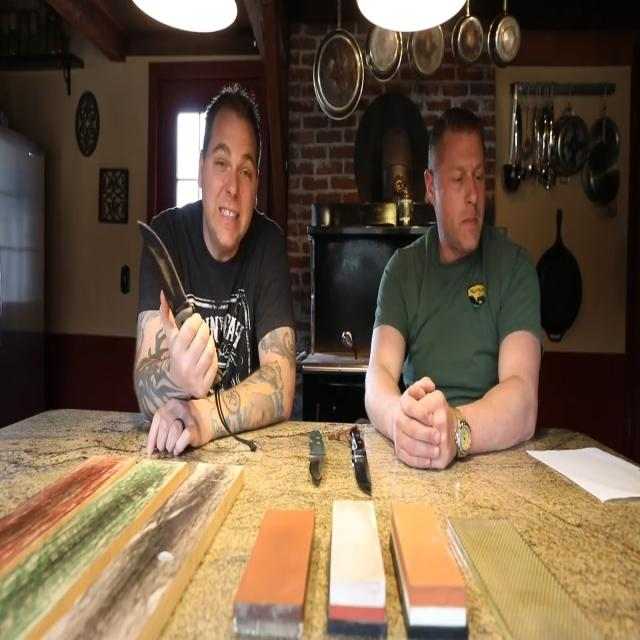knife: (134, 212, 194, 326), (345, 422, 377, 500), (305, 421, 331, 489)
